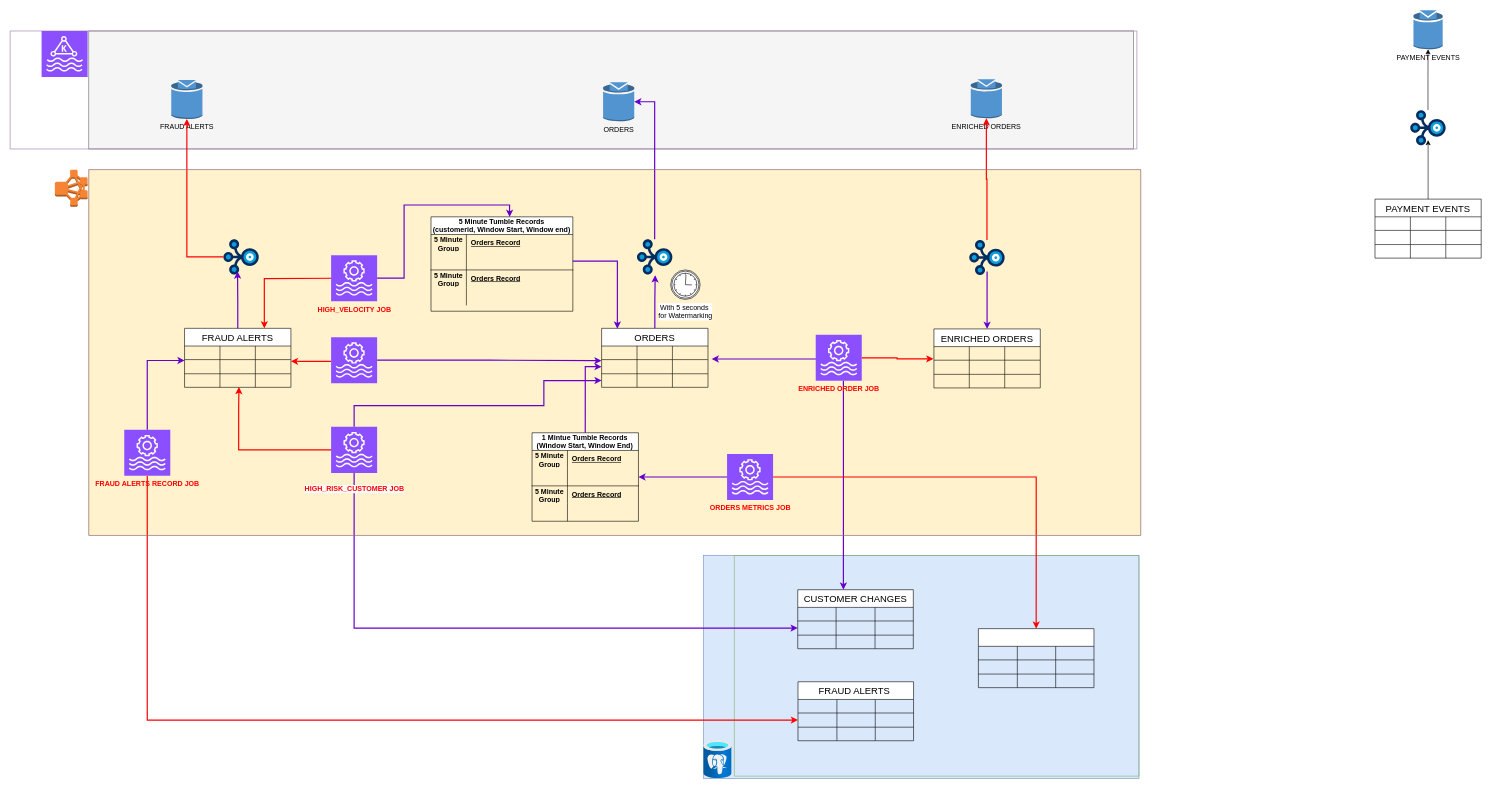
The diagram is 1492 pixels wide and 789 high, and some of its shapes have lost their labels. Each missing label, with the centre of its shape:
LARGE TRANSACTION JOB: (354,360)
ORDERS METRICS: (1036,658)
